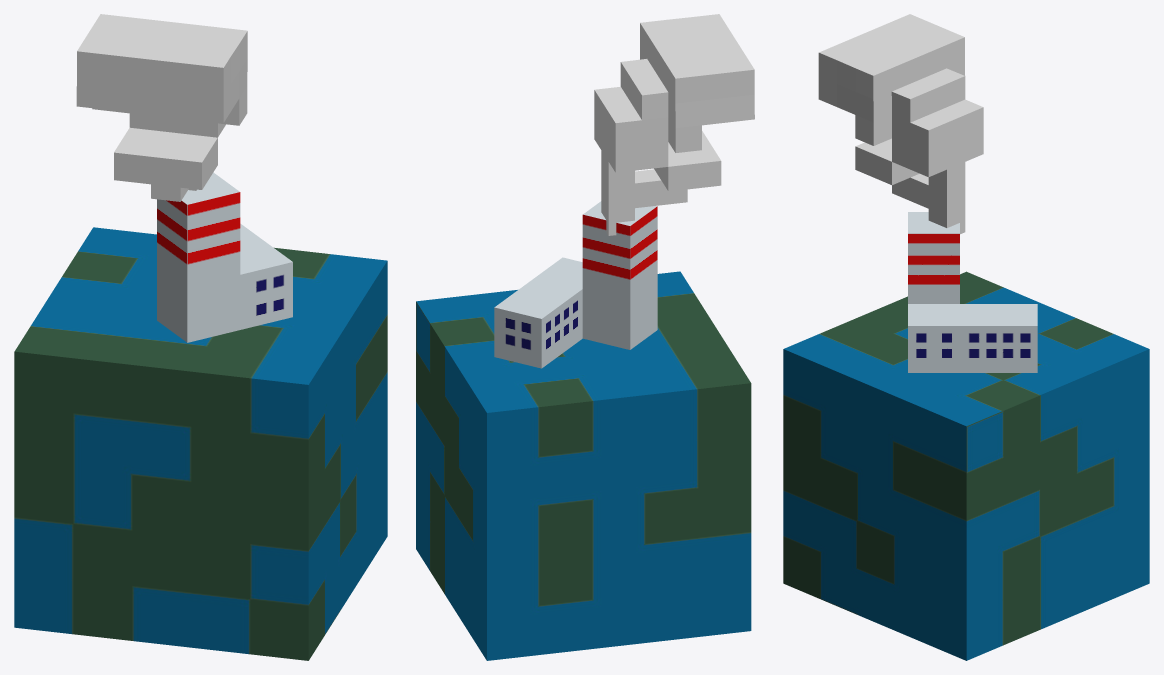
3 renders of one model, left to right at view 1: azimuth 30°, elevation 25°; view 2: azimuth 150°, elevation 25°; view 3: azimuth 270°, elevation 25°, orthographic. The views are drawn at different scales.
Parts seen in each view (by area): view 1: Box053, Box003, Box002; view 2: Box053, Box003, Box002; view 3: Box053, Box003, Box002.
Part boxes in pixels (x1,y1,x2,y2): Box053: (14, 227, 387, 660); Box003: (76, 14, 247, 201); Box002: (157, 172, 292, 342); Box053: (416, 271, 751, 660); Box003: (594, 14, 754, 235); Box002: (494, 201, 657, 368); Box053: (783, 271, 1149, 660); Box003: (818, 14, 983, 234); Box002: (908, 212, 1037, 372).
Bounding box in the file's own units: 359 × 546 × 359.
